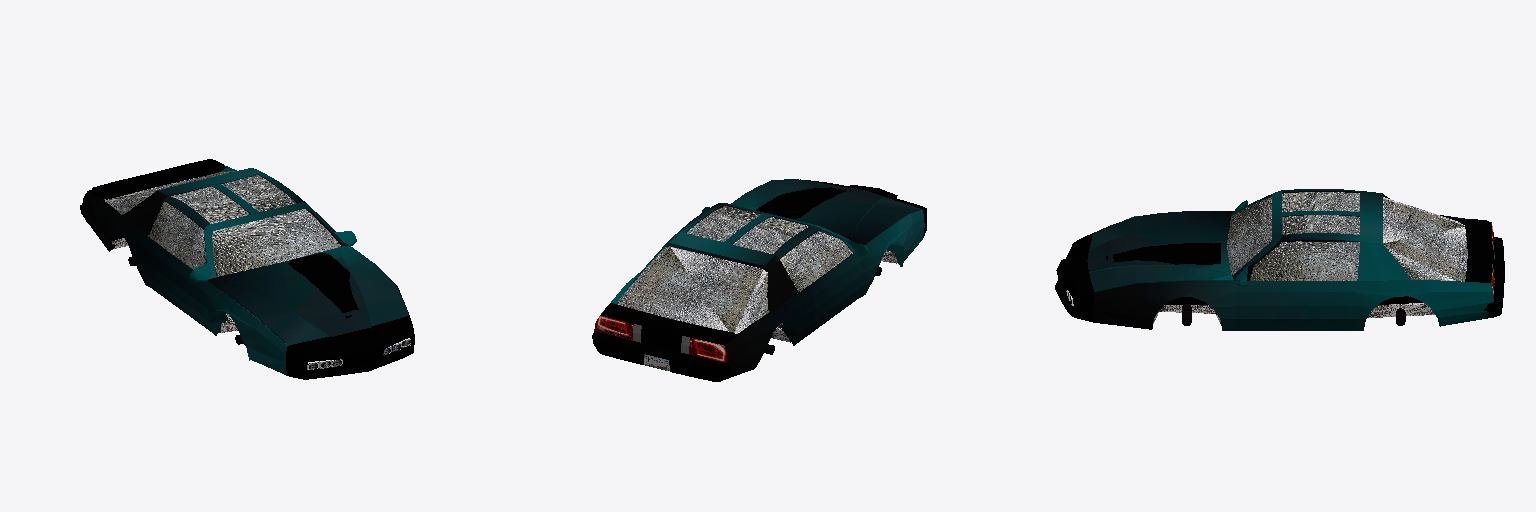
3 views of the same model, side by side, from view 1: azimuth 30°, elevation 25°; view 2: azimuth 150°, elevation 25°; view 3: azimuth 270°, elevation 25° (orthographic).
Parts seen in each view (by area): view 1: Box01, Box25, Box12, Box02, Box11, Box16, Box06; view 2: Box01, Box25, Box13, Box16, Box02, Box21, Box28; view 3: Box01, Box25, Box02, Box12, Box16, Box38, Box13, Box11.
Boxes of the visible parts, x1=… form: Box01: x1=82, y1=165, x2=408, y2=375; Box25: x1=104, y1=171, x2=340, y2=276; Box12: x1=286, y1=315, x2=414, y2=379; Box02: x1=288, y1=253, x2=358, y2=318; Box11: x1=334, y1=330, x2=385, y2=366; Box16: x1=92, y1=159, x2=223, y2=195; Box06: x1=89, y1=166, x2=226, y2=199; Box01: x1=595, y1=179, x2=924, y2=379; Box25: x1=618, y1=205, x2=852, y2=333; Box13: x1=592, y1=331, x2=730, y2=381; Box16: x1=604, y1=303, x2=735, y2=341; Box02: x1=756, y1=187, x2=851, y2=219; Box21: x1=594, y1=315, x2=727, y2=363; Box28: x1=641, y1=326, x2=681, y2=351; Box01: x1=1087, y1=189, x2=1493, y2=330; Box25: x1=1227, y1=192, x2=1467, y2=281; Box02: x1=1106, y1=243, x2=1220, y2=264; Box12: x1=1055, y1=233, x2=1093, y2=322; Box16: x1=1469, y1=219, x2=1491, y2=280; Box38: x1=1153, y1=303, x2=1434, y2=325; Box13: x1=1484, y1=237, x2=1504, y2=318; Box11: x1=1056, y1=256, x2=1088, y2=292.
Bounding box in the file's own units: 15.27 × 7.68 × 35.89.
Materials: 9 (6 with a texture image).